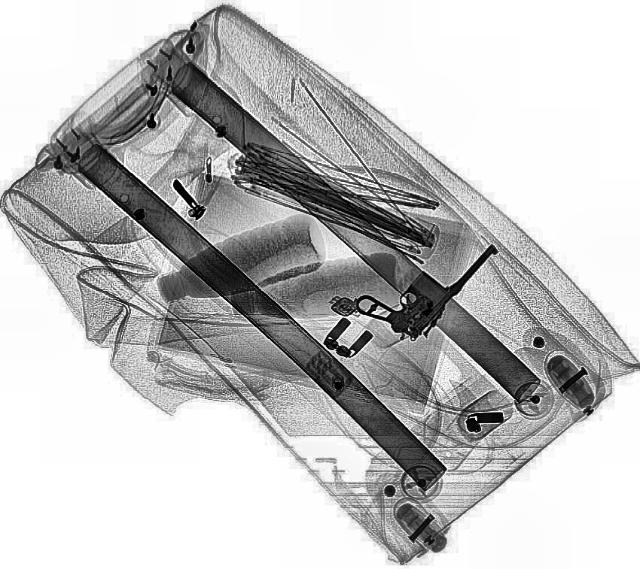Gun: (350, 212, 500, 346)
